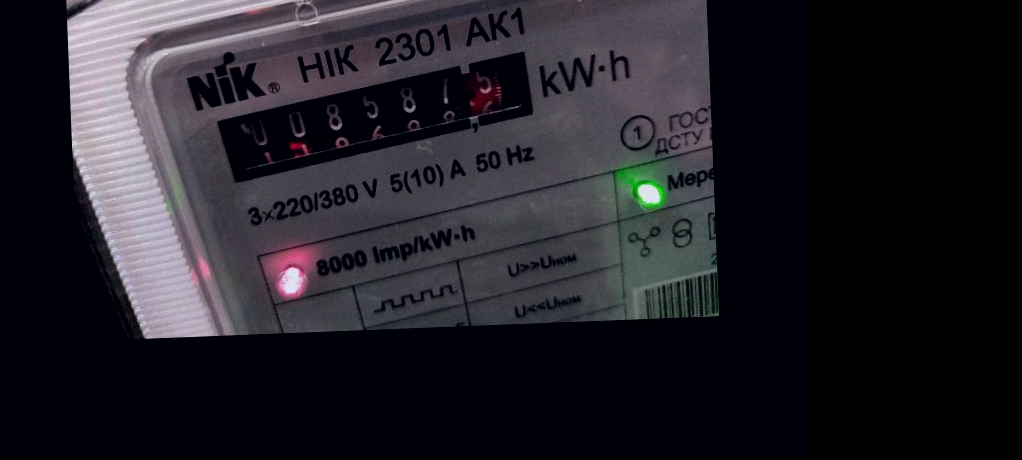0: (283, 104, 310, 139), (245, 114, 273, 147)
5: (358, 89, 383, 121), (472, 62, 495, 94)
6: (478, 97, 497, 115)
7: (433, 73, 456, 108)
8: (322, 99, 347, 132), (395, 81, 419, 115)
screen: (206, 49, 558, 184)
